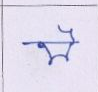e_matra: (58, 25, 78, 41)
